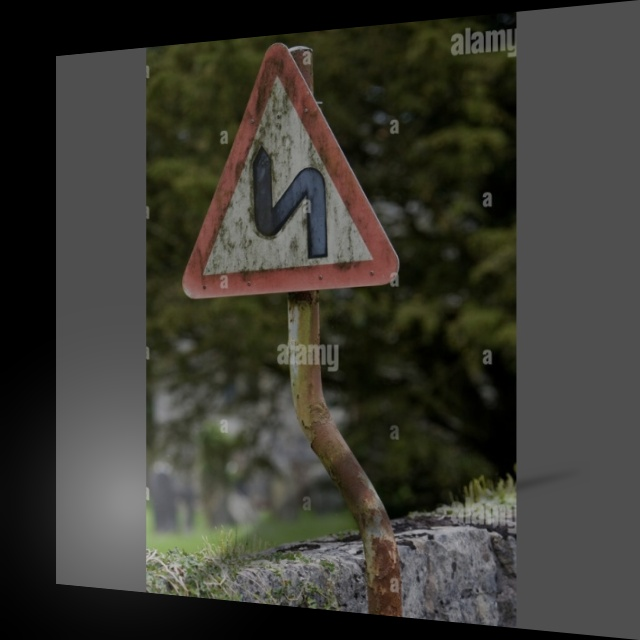Left_Reverse_Bend: (186, 29, 410, 298)
